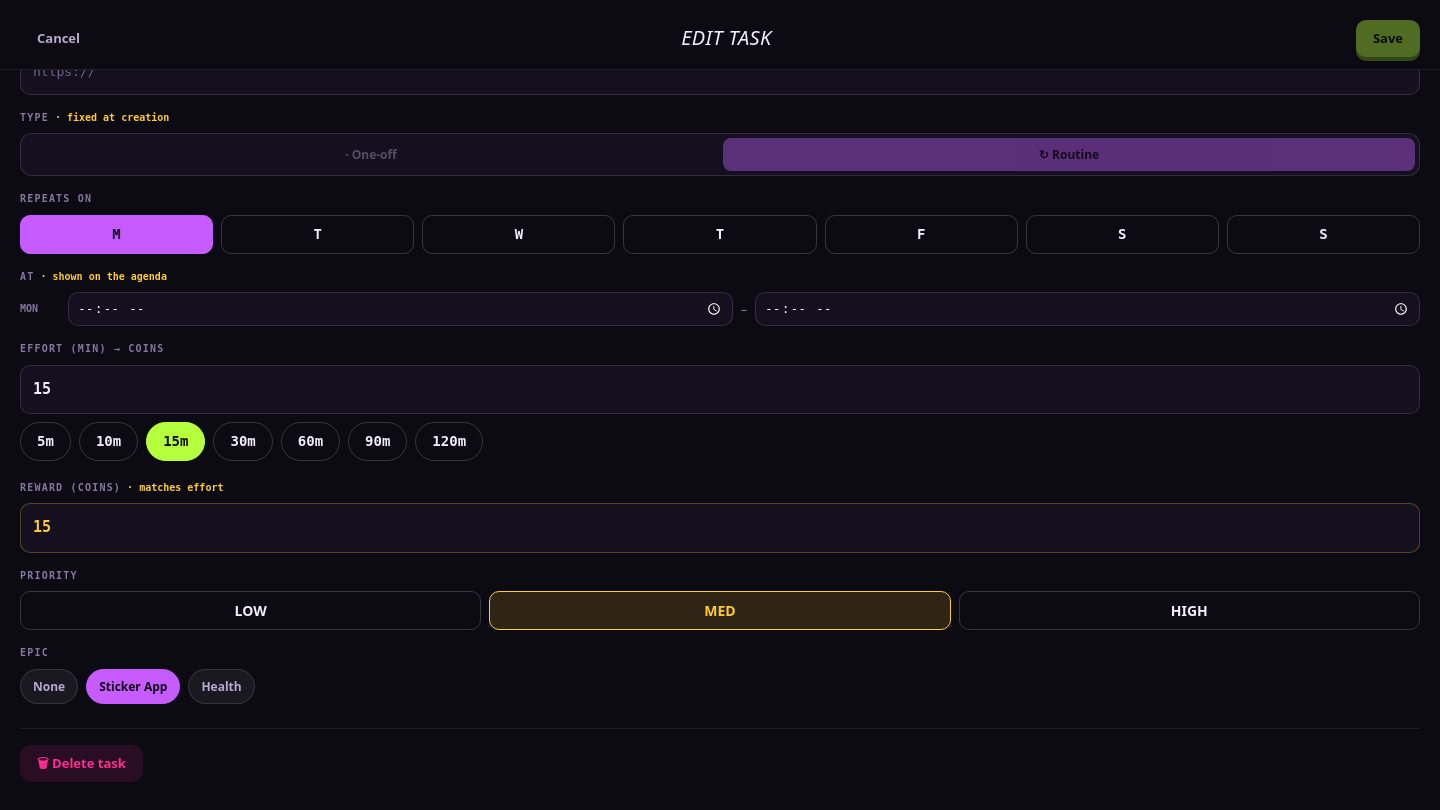
Test case: editing — delete › backs out without deleting
(page scrolled)
Click the button "🗑 Delete task" at (81, 763), box [20,745,143,782]
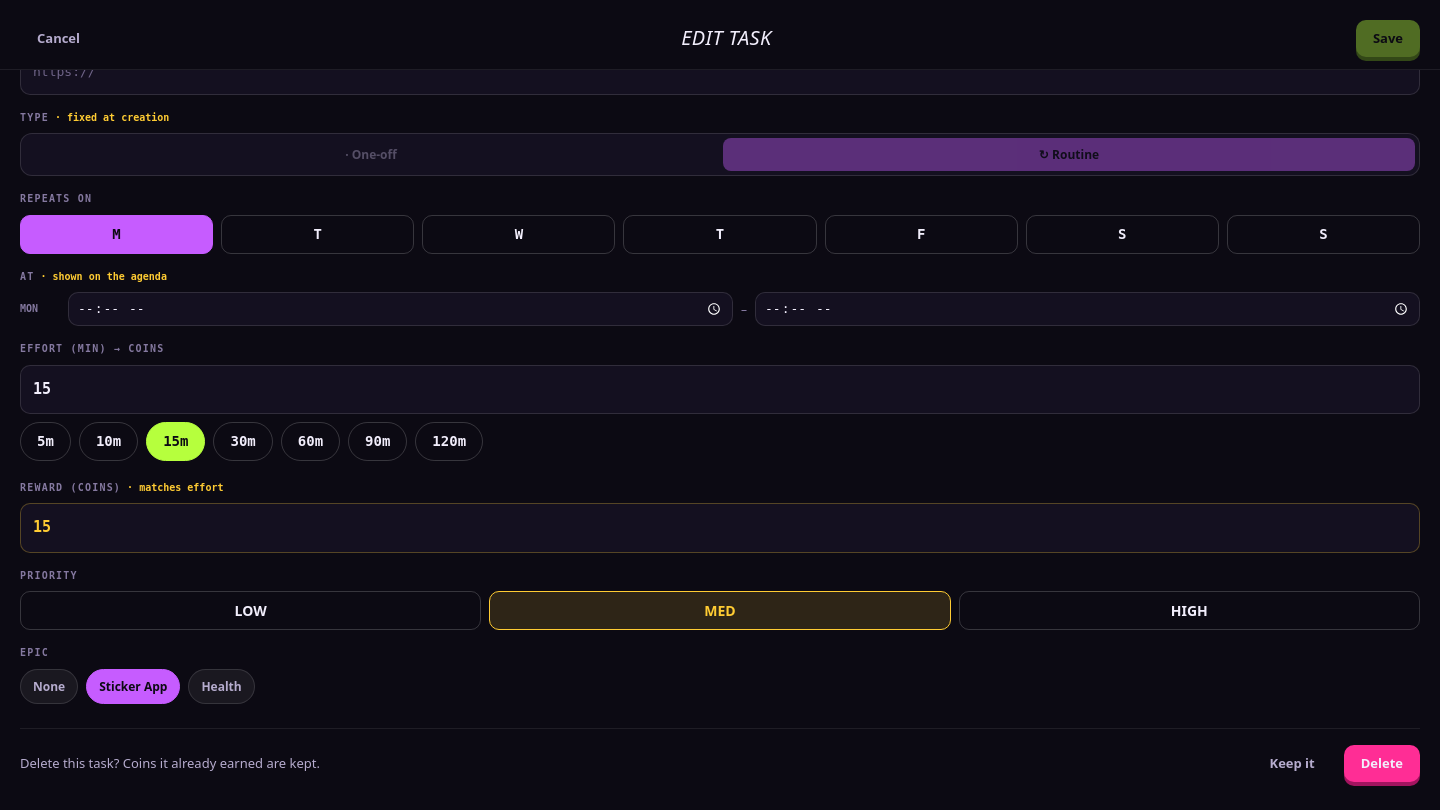
Click the button "Keep it" at (1292, 763), box [1252,745,1332,782]
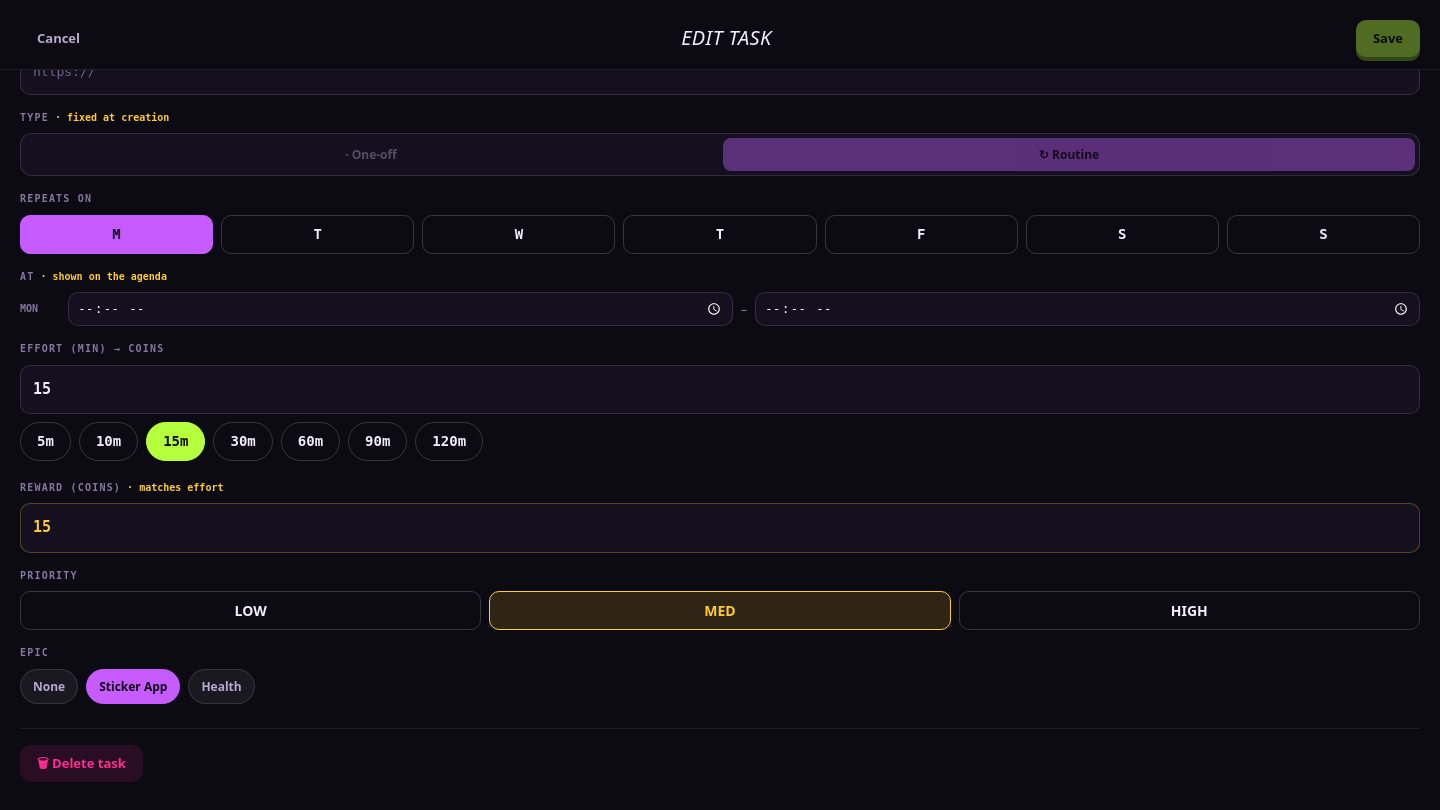
Expected: the button "🗑 Delete task" is shown, [20,745,143,782]
